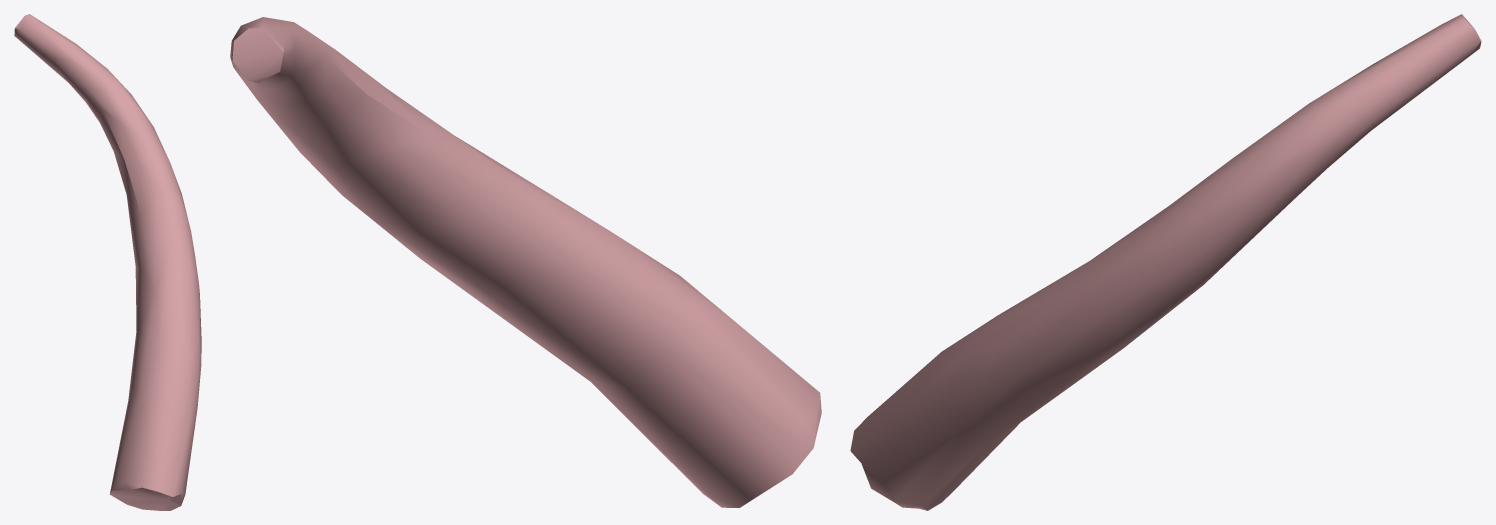
Rendered from fma68225_fj2447.glb.
The picture shows the model from 3 angles, left to right: view 1: azimuth 30°, elevation 25°; view 2: azimuth 150°, elevation 25°; view 3: azimuth 270°, elevation 25°; orthographic projection. The views are drawn at different scales.
Visible parts, largest first — view 1: FMA68225_FJ2447; view 2: FMA68225_FJ2447; view 3: FMA68225_FJ2447.
Boxes of the visible parts, box(x1,y1,x2,y2) form: FMA68225_FJ2447: box(14, 14, 201, 510); FMA68225_FJ2447: box(230, 17, 821, 507); FMA68225_FJ2447: box(850, 14, 1481, 510).
Size of the model in its own units: 0.0166 by 0.0351 by 0.0379.
